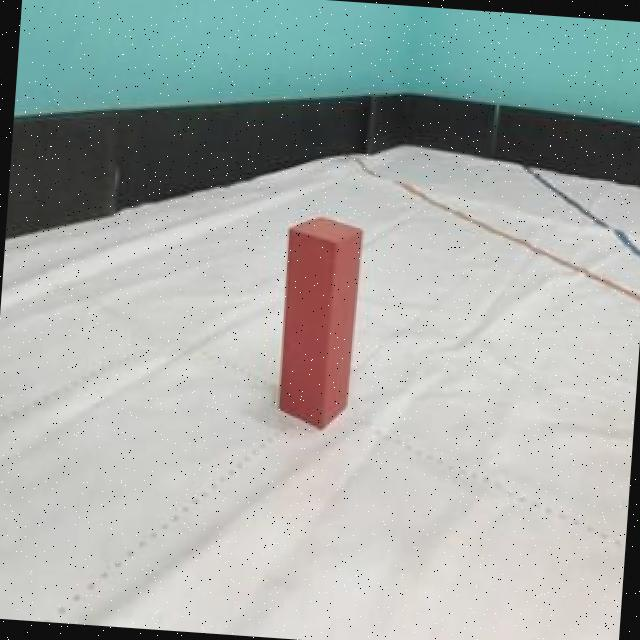redbox: (272, 213, 364, 432)
